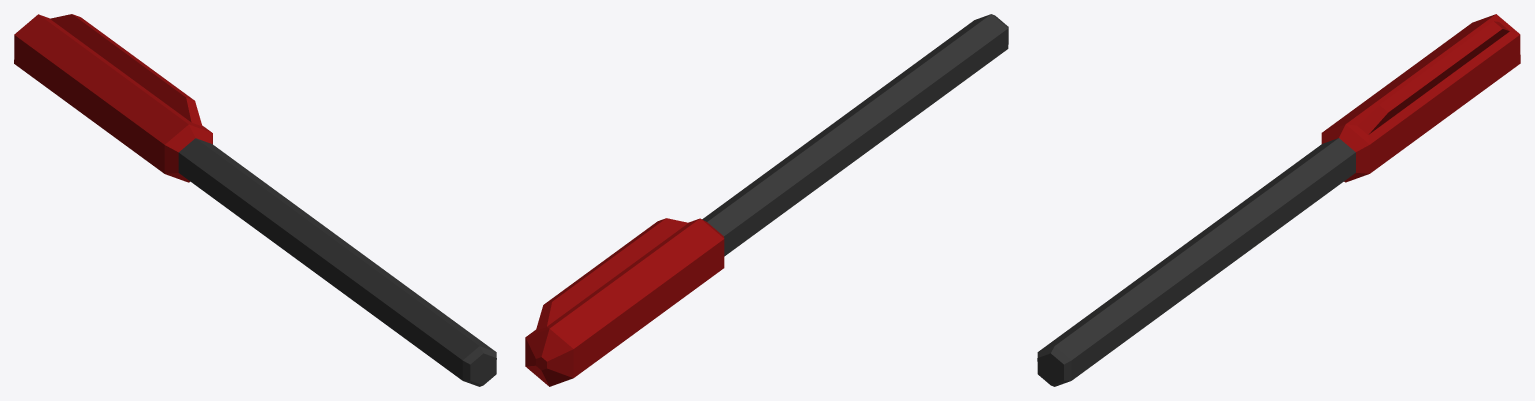
The model's file is PenV1Red.fbx.
3 views of the same model, side by side, from view 1: azimuth 30°, elevation 25°; view 2: azimuth 150°, elevation 25°; view 3: azimuth 330°, elevation 25° (orthographic).
Visible parts, largest first — view 1: PenV1Red; view 2: PenV1Red; view 3: PenV1Red.
Boxes of the visible parts, box(x1,y1,x2,y2) form: PenV1Red: box(14, 14, 496, 386); PenV1Red: box(525, 14, 1008, 386); PenV1Red: box(1037, 14, 1520, 386).
Size of the model in its own units: 0.6611 by 0.8859 by 10.7.
